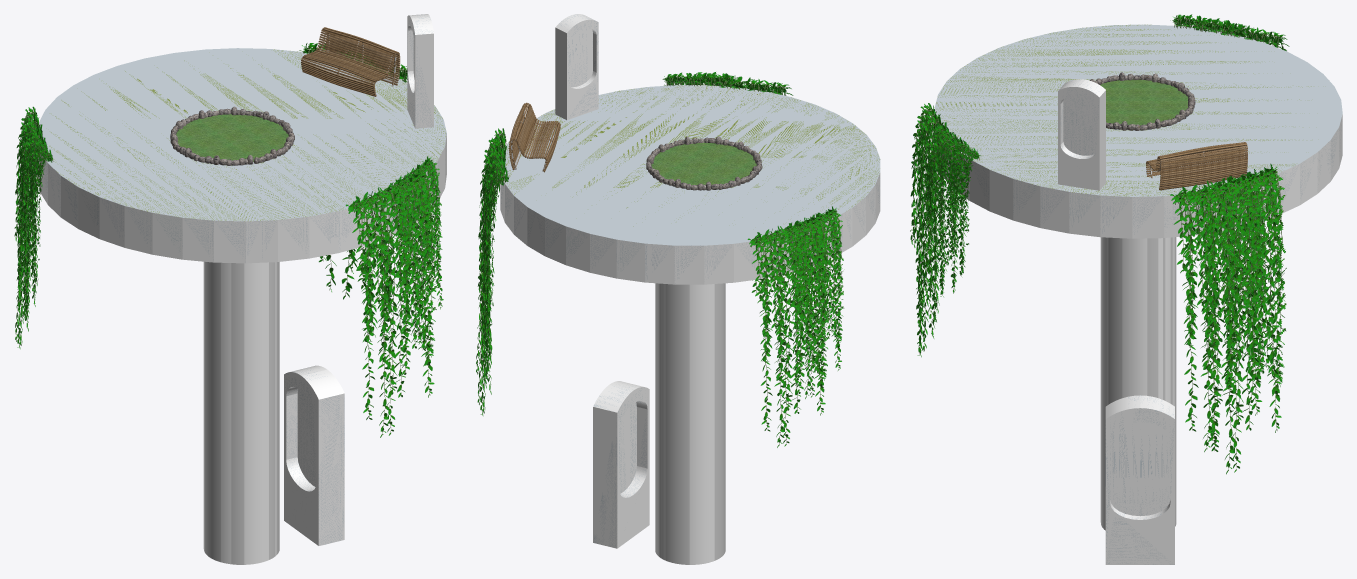
The model's file is aereo1.glb.
The picture shows the model from 3 angles, left to right: view 1: azimuth 30°, elevation 25°; view 2: azimuth 150°, elevation 25°; view 3: azimuth 270°, elevation 25°; orthographic projection. The views are drawn at different scales.
Parts seen in each view (by area): view 1: SketchUp, SketchUp.002, SketchUp.179, SketchUp.001, SketchUp.007, SketchUp.12670, SketchUp.112, SketchUp.114; view 2: SketchUp, SketchUp.002, SketchUp.179, SketchUp.12670, SketchUp.001, SketchUp.112, SketchUp.007, SketchUp.114; view 3: SketchUp, SketchUp.002, SketchUp.179, SketchUp.12670, SketchUp.001, SketchUp.007, SketchUp.112, SketchUp.114.
Boxes of the visible parts, box(x1,y1,x2,y2) form: SketchUp: box(36, 14, 446, 564); SketchUp.002: box(39, 48, 446, 221); SketchUp.179: box(14, 43, 443, 437); SketchUp.001: box(39, 14, 446, 544); SketchUp.007: box(301, 27, 400, 96); SketchUp.12670: box(16, 48, 441, 434); SketchUp.112: box(176, 114, 288, 161); SketchUp.114: box(170, 106, 294, 165); SketchUp: box(500, 14, 880, 564); SketchUp.002: box(503, 85, 880, 245); SketchUp.179: box(476, 72, 843, 447); SketchUp.12670: box(477, 76, 841, 445); SketchUp.001: box(500, 14, 879, 547); SketchUp.112: box(651, 142, 756, 185); SketchUp.007: box(509, 102, 560, 172); SketchUp.114: box(646, 136, 762, 190); SketchUp: box(935, 79, 1342, 564); SketchUp.002: box(934, 24, 1342, 196); SketchUp.179: box(910, 14, 1289, 474); SketchUp.12670: box(912, 18, 1283, 470); SketchUp.001: box(948, 80, 1341, 564); SketchUp.007: box(1146, 142, 1247, 190); SketchUp.112: box(1100, 79, 1188, 125); SketchUp.114: box(1090, 72, 1195, 130).
Size of the model in its own units: 8.84 by 11.21 by 8.59.
Materials: 12 (7 with a texture image).
